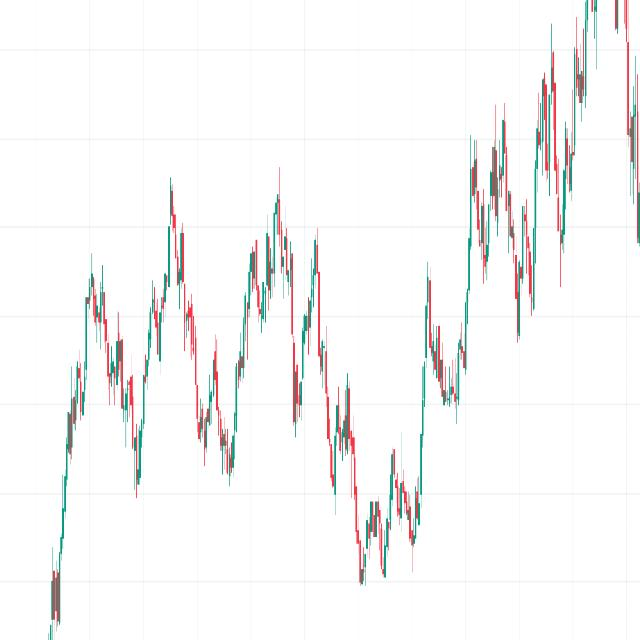Triple-Top: (61, 154, 301, 497)
